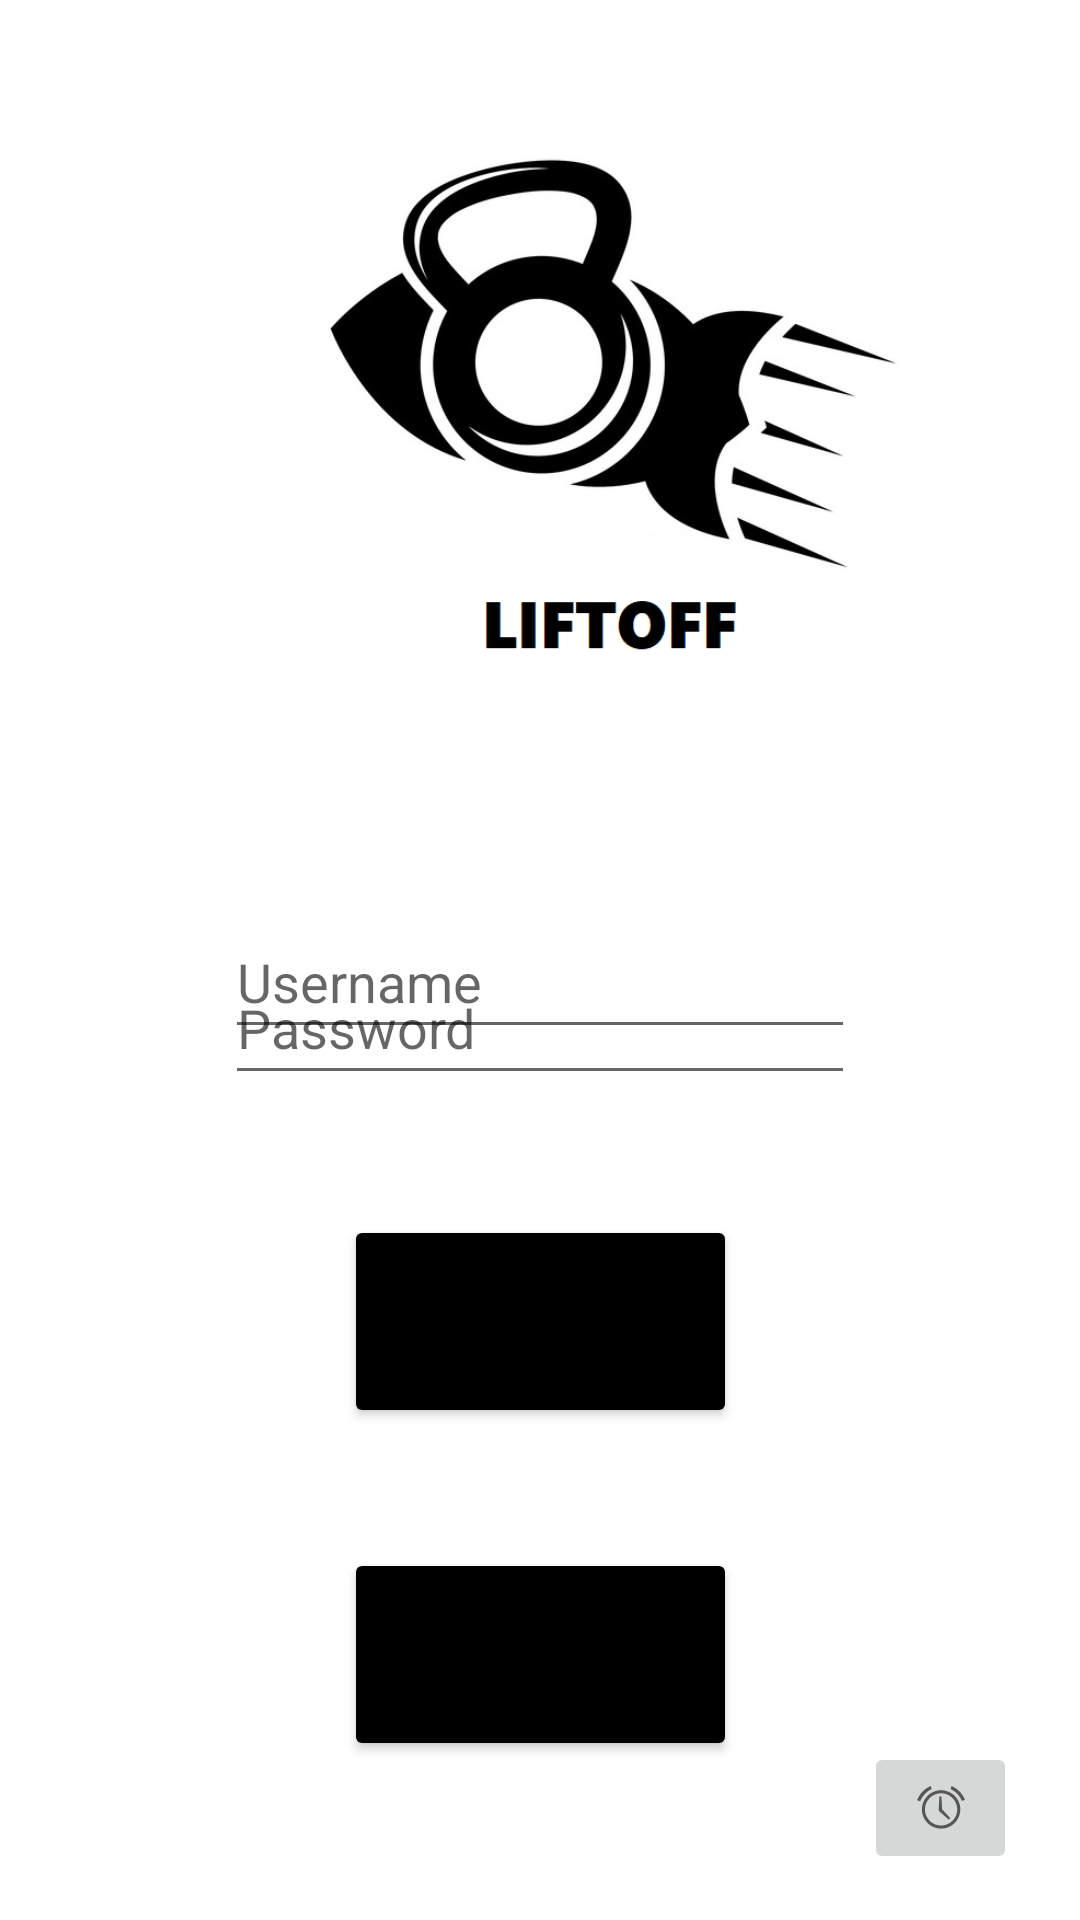

Icons on this 1080×1920 Android screen, each with the point to tap as [x,y]:
lock idle alarm: [940,1808]
